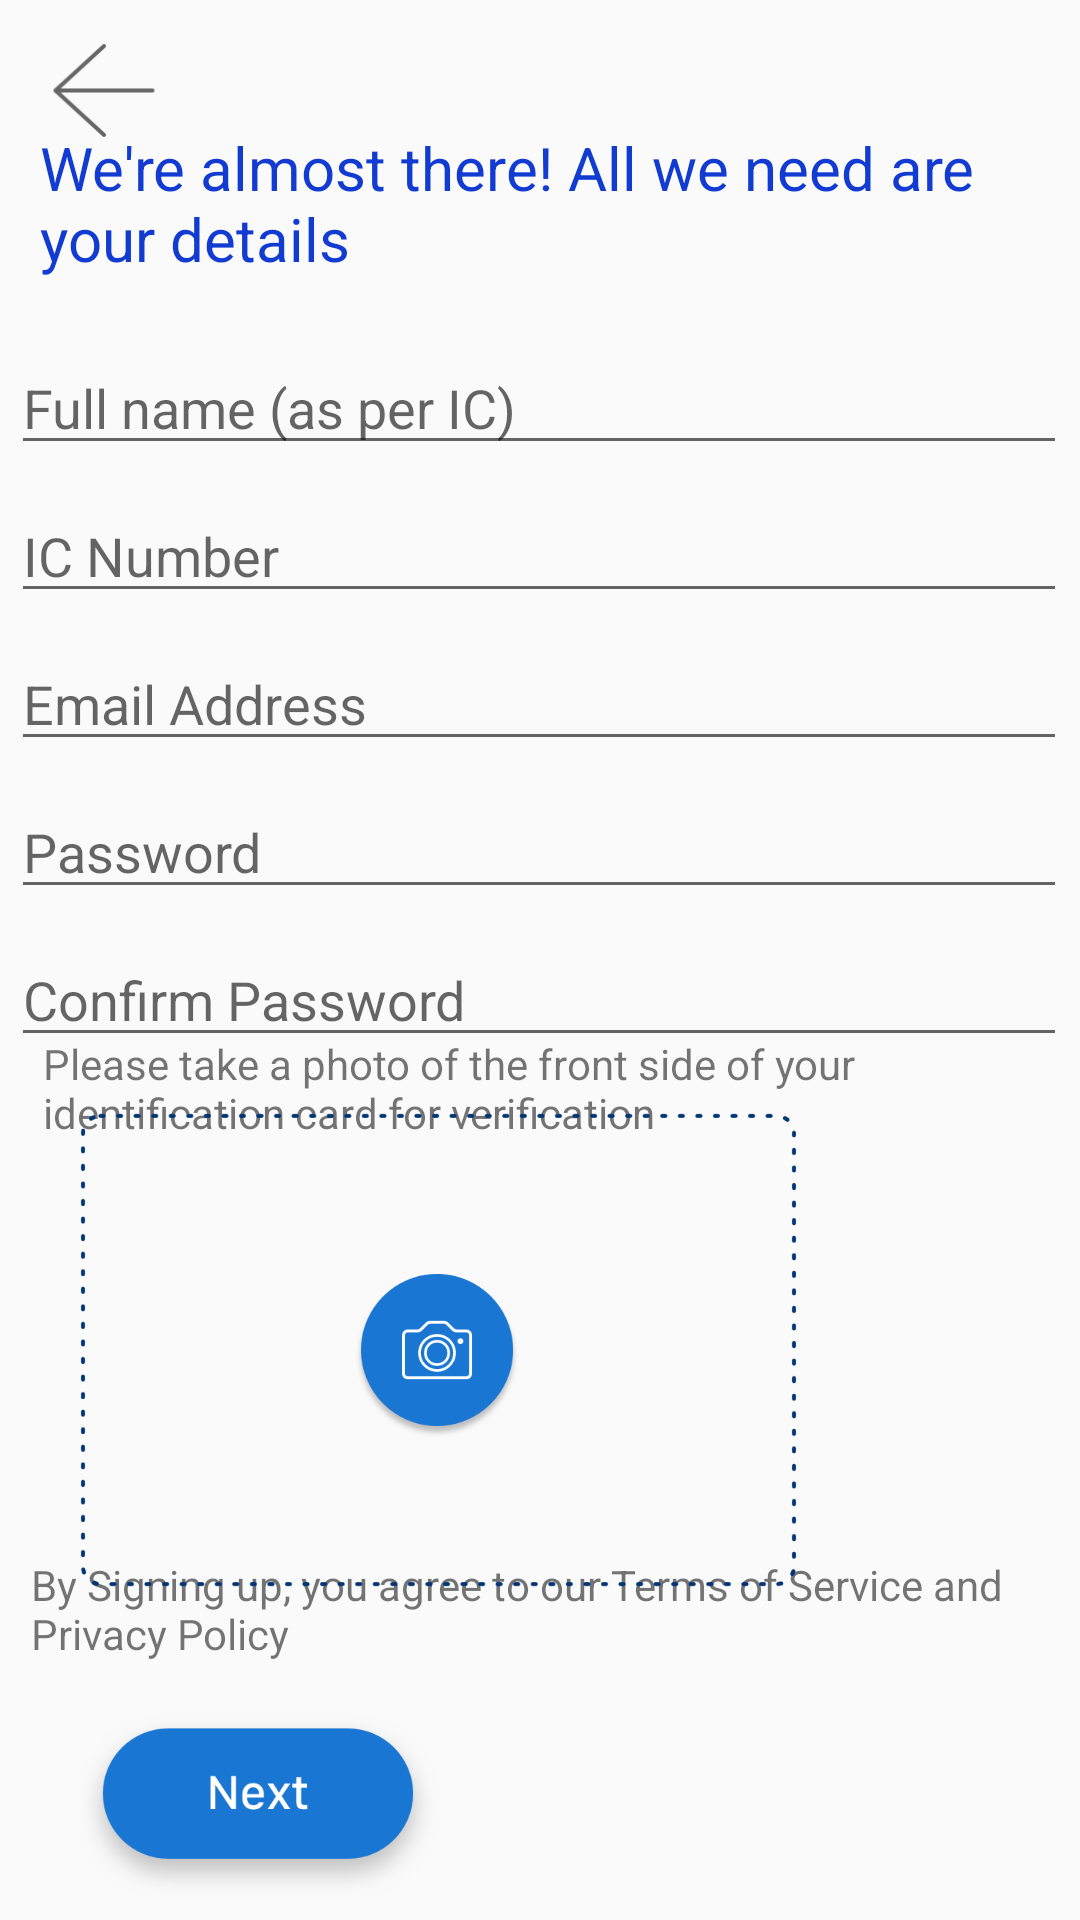

Icon bounding boxes for this 1080×1920 phone screenshot, format region(x1, y1, x2, y2):
back: region(53, 44, 155, 137)
